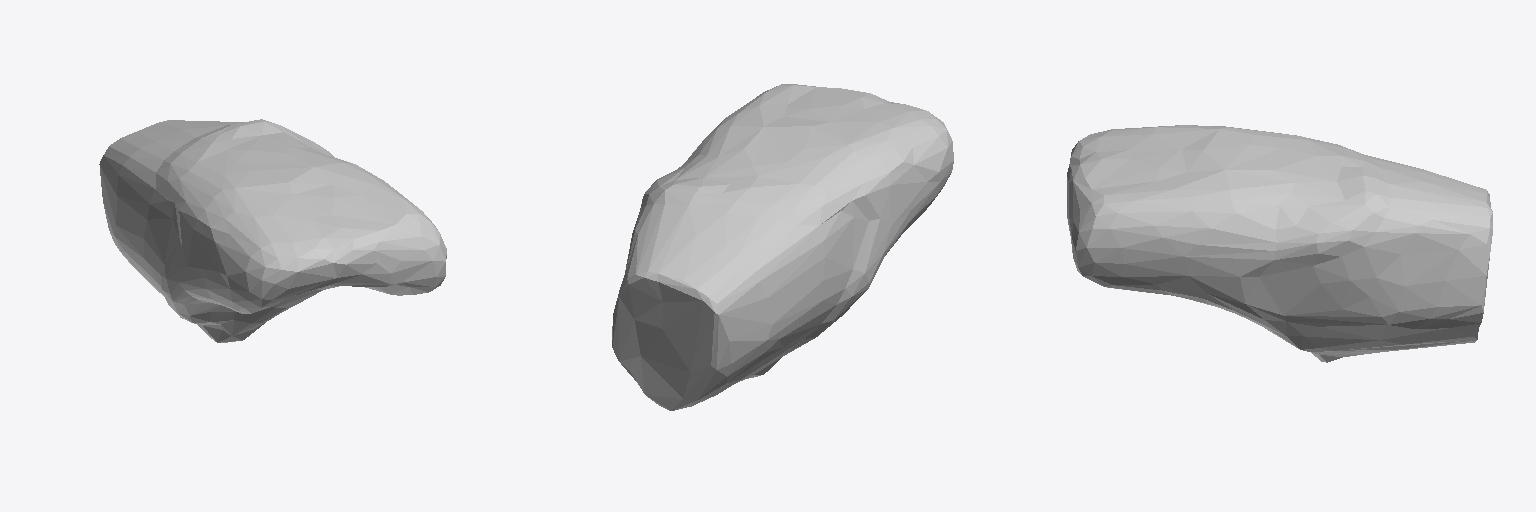
File: local_t31_7780_si.OBJ
3 renders of one model, left to right at view 1: azimuth 30°, elevation 25°; view 2: azimuth 150°, elevation 25°; view 3: azimuth 270°, elevation 25°, orthographic.
Visible parts, largest first — view 1: Group60482; view 2: Group60482; view 3: Group60482.
Part boxes in pixels (left/top/right/bottom): Group60482: left=99, top=119, right=446, bottom=342; Group60482: left=612, top=84, right=953, bottom=410; Group60482: left=1067, top=125, right=1492, bottom=362.
Bounding box in the file's own units: 5.71 × 5.6 × 10.52.